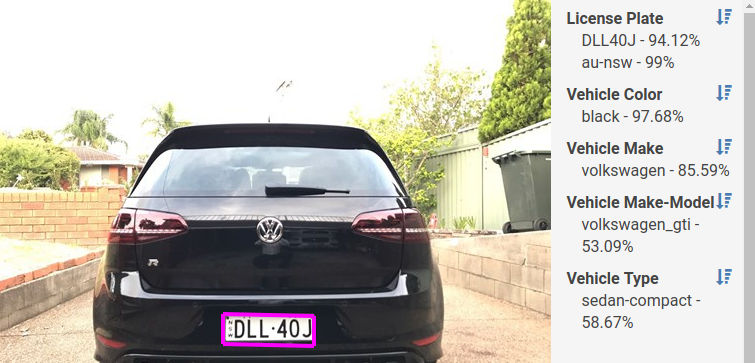license plate: (220, 313, 315, 346)
